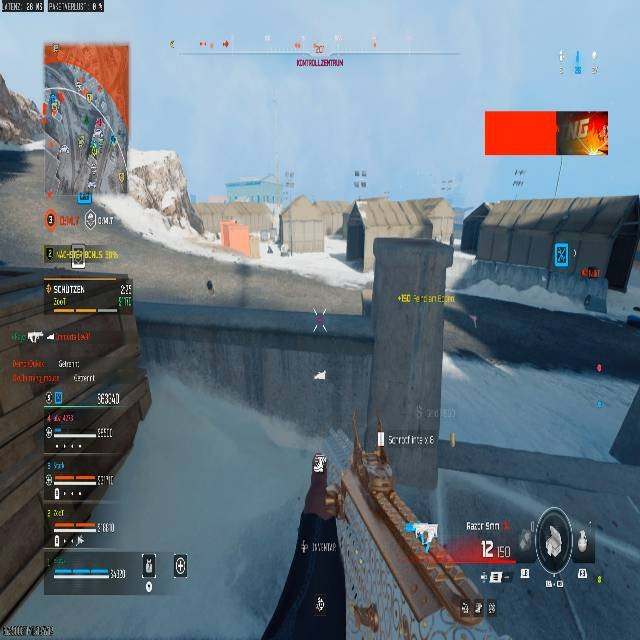player: (206, 279, 213, 292)
